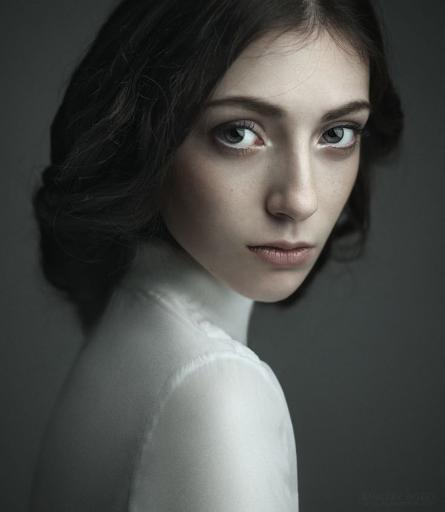left_eye: (316, 124, 362, 154)
left_lip_corner: (307, 240, 320, 256)
right_eye: (208, 123, 270, 157)
right_lip_corner: (244, 239, 261, 258)
